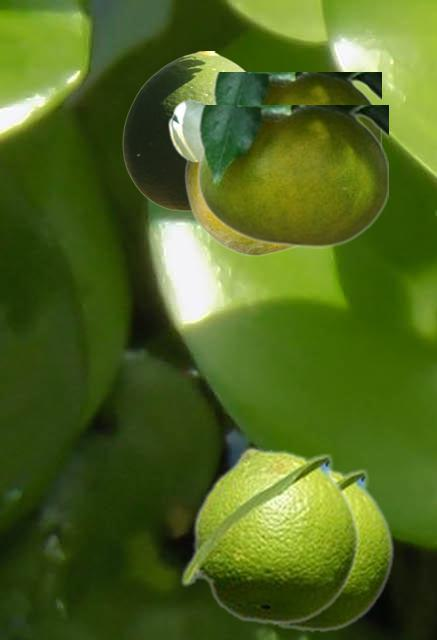dalandan: (179, 446, 360, 625), (197, 105, 387, 247), (272, 465, 394, 632), (167, 97, 294, 255), (122, 51, 246, 211), (212, 72, 380, 140)
